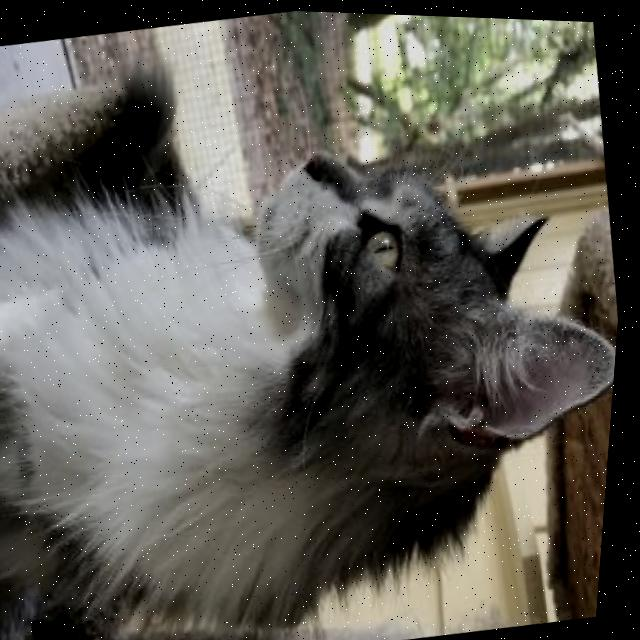Maine Coon: (0, 92, 635, 640)
